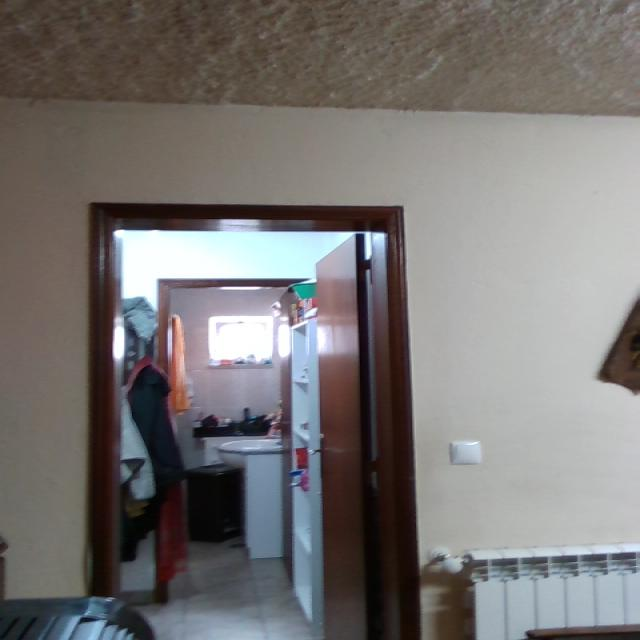open: (77, 197, 444, 639)
